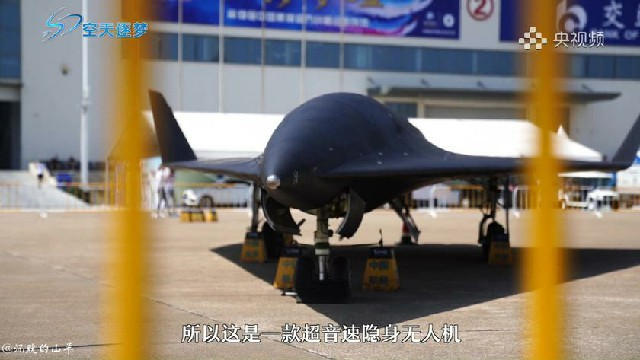maybay_khongnguoilai: (145, 87, 640, 294)
